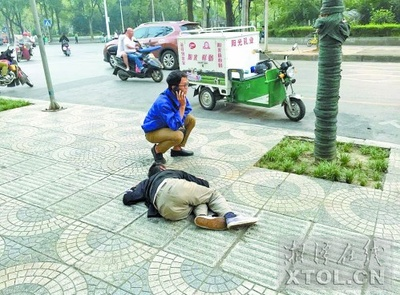falling: (111, 157, 263, 235)
